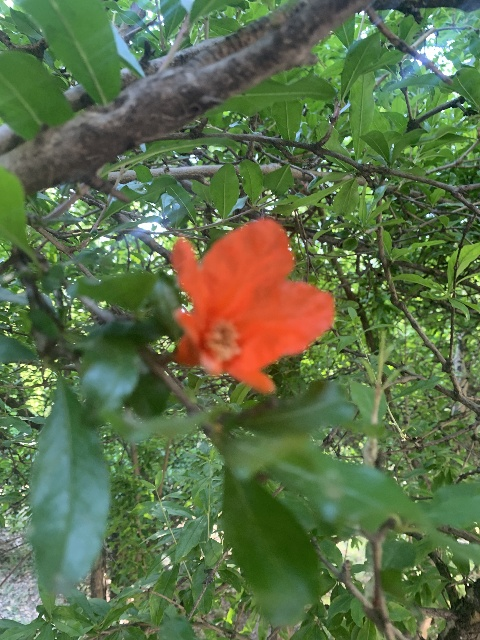flower: (167, 217, 335, 394)
